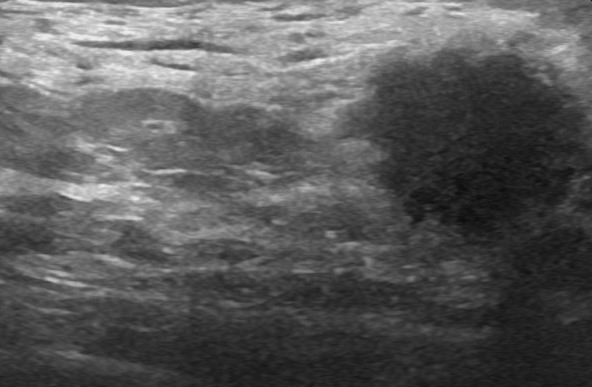Malignant: (364, 43, 575, 221)
